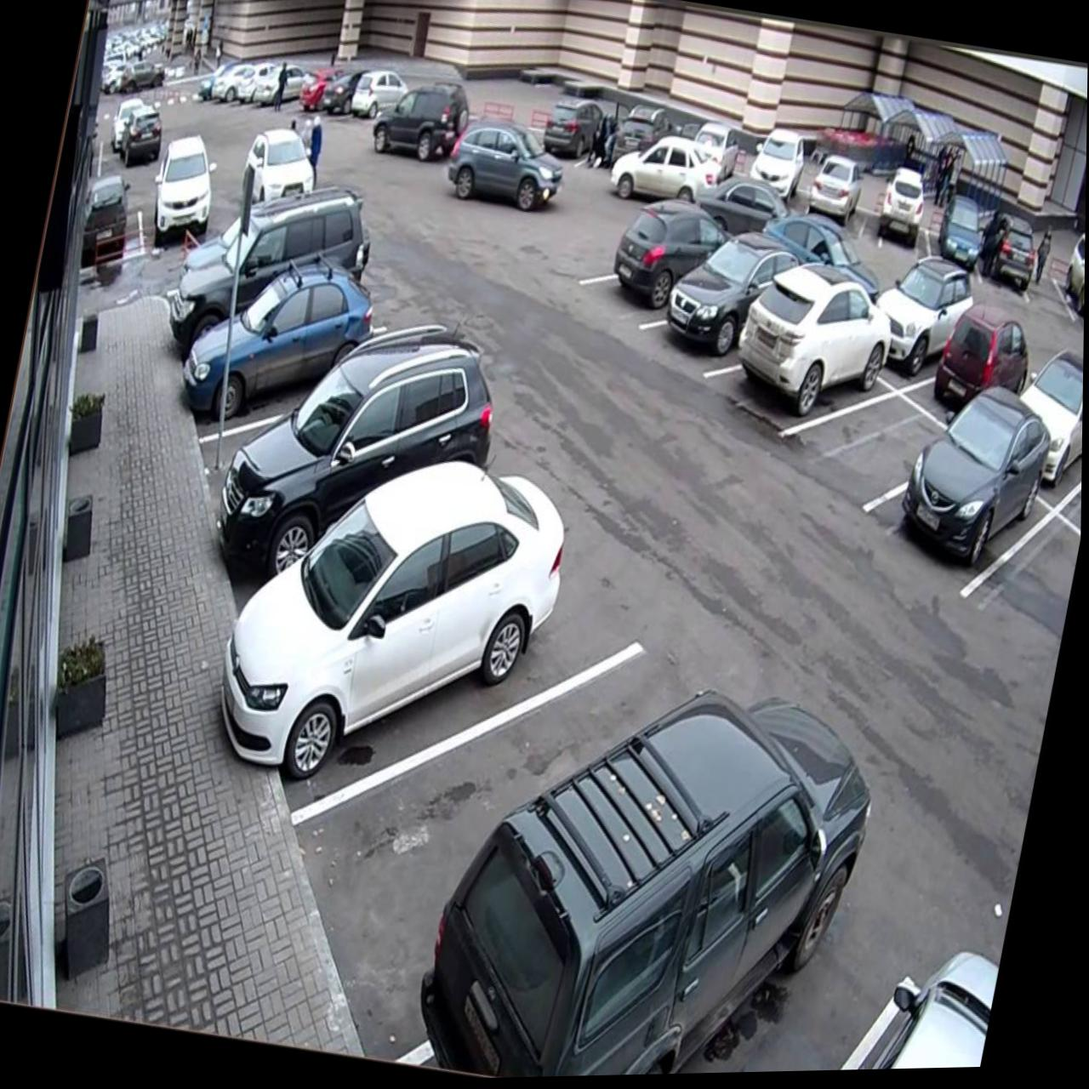cars: (228, 496, 596, 828), (438, 821, 908, 1079), (209, 390, 512, 673), (182, 255, 397, 446), (165, 222, 383, 382), (887, 405, 1050, 591), (727, 288, 887, 457), (652, 236, 799, 398), (605, 189, 735, 350), (857, 246, 984, 383), (922, 294, 1034, 422), (1007, 337, 1084, 511), (140, 131, 229, 267), (63, 174, 149, 288), (798, 154, 881, 260), (733, 121, 816, 221), (90, 114, 174, 208), (861, 176, 936, 274), (915, 207, 994, 293), (968, 216, 1035, 312), (1044, 247, 1085, 341)
empty: (298, 631, 700, 1063), (183, 297, 434, 565), (764, 355, 936, 542), (973, 511, 1081, 657), (1012, 220, 1082, 339)
